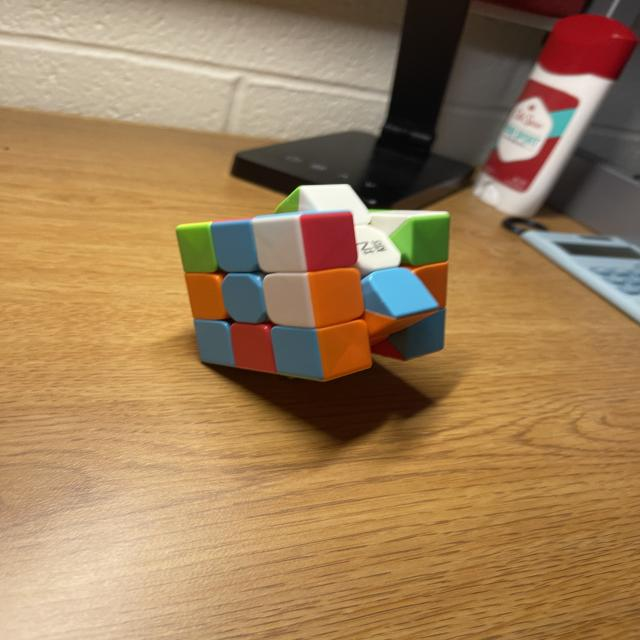Rubiks Cube: (174, 183, 450, 381)
